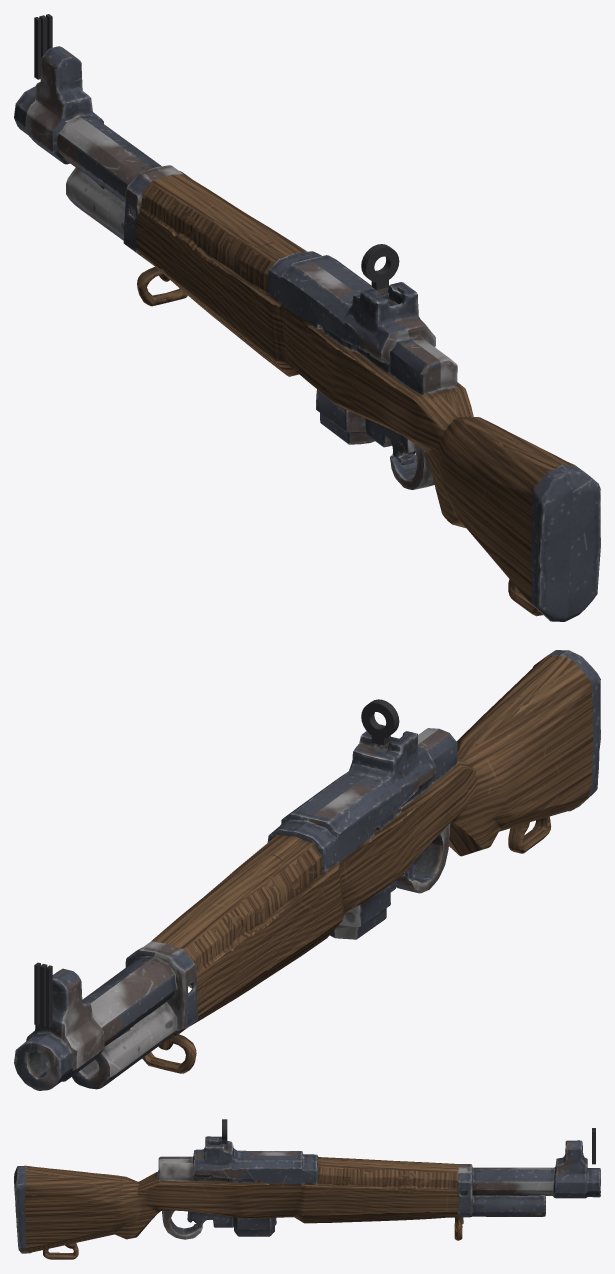
The model's file is battle_rifle.glb.
3 renders of one model, top to bottom at view 1: azimuth 30°, elevation 25°; view 2: azimuth 150°, elevation 25°; view 3: azimuth 270°, elevation 25°, orthographic. The views are drawn at different scales.
Parts seen in each view (by area): view 1: battle_rifle_world, rear_ring; view 2: battle_rifle_world, rear_ring; view 3: battle_rifle_world.
Boxes of the visible parts, <box> form: battle_rifle_world: <box>14,46,600,621</box>; rear_ring: <box>361,244,399,283</box>; battle_rifle_world: <box>14,650,600,1090</box>; rear_ring: <box>361,699,399,738</box>; battle_rifle_world: <box>14,1136,600,1259</box>.
Bounding box in the file's own units: 0.0737 × 0.2602 × 1.
2 materials, 1 textured.
